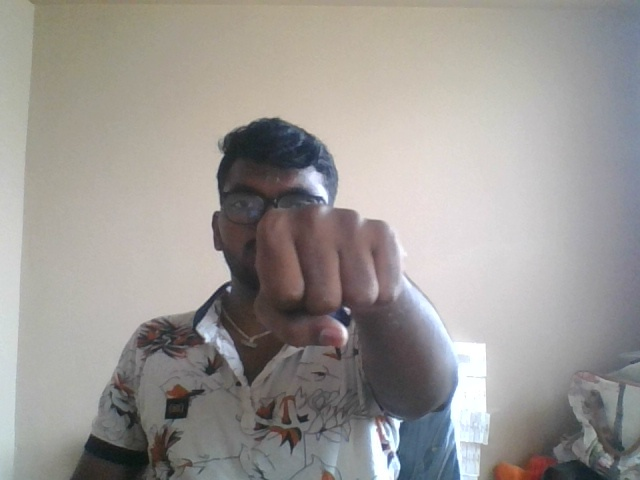Yes: (245, 196, 446, 370)
